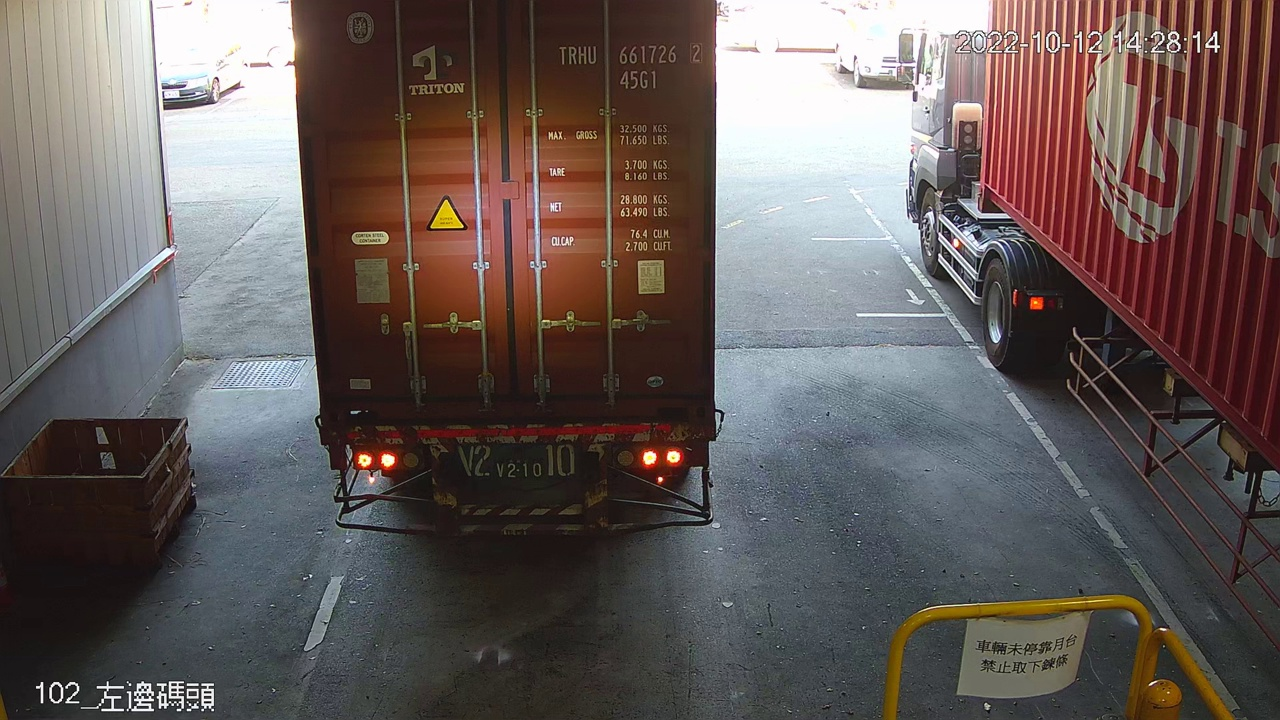container: (551, 36, 708, 98)
